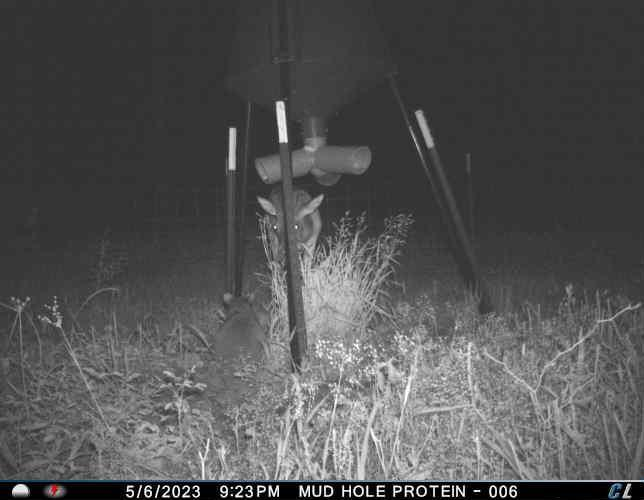Deer: (259, 183, 329, 276)
Raccoon: (212, 288, 271, 364)
